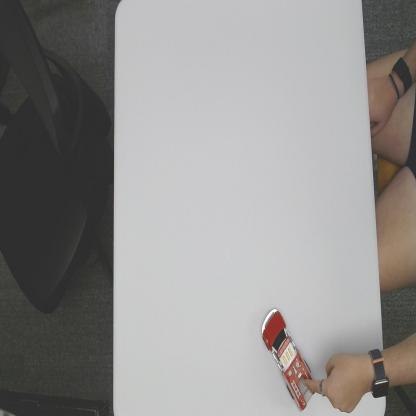Firetruck: (261, 306, 317, 412)
Hand: (304, 345, 368, 415)
